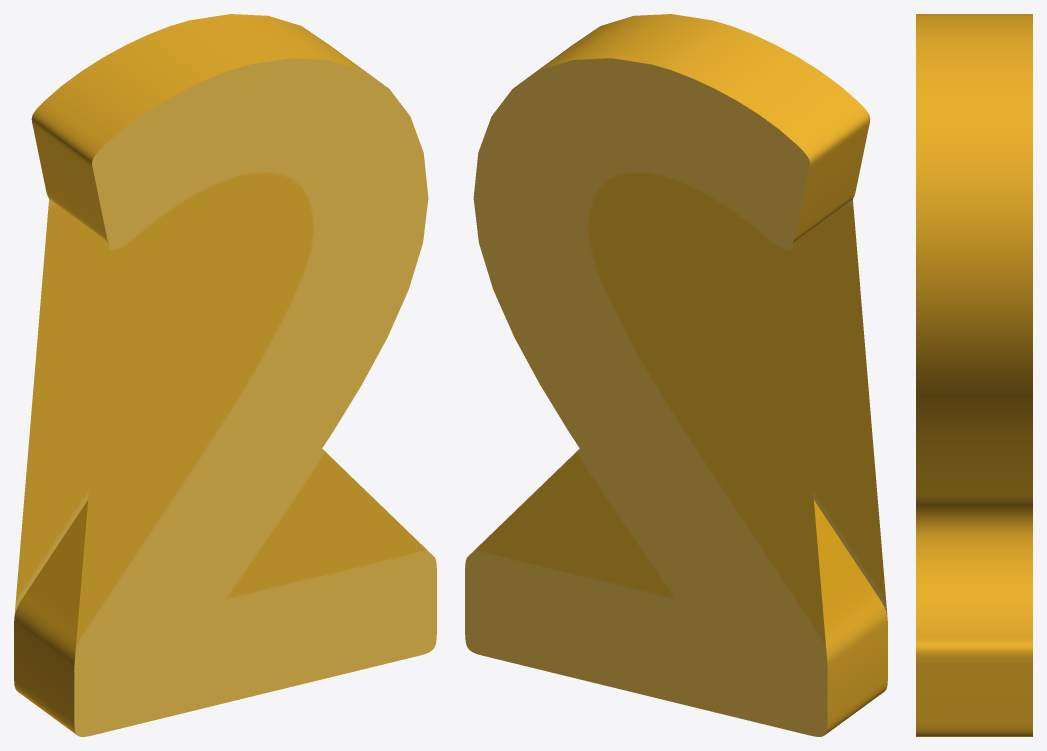
The model's file is number_two.FBX.
3 renders of one model, left to right at view 1: azimuth 30°, elevation 25°; view 2: azimuth 150°, elevation 25°; view 3: azimuth 270°, elevation 25°, orthographic. The views are drawn at different scales.
Parts seen in each view (by area): view 1: number_two; view 2: number_two; view 3: number_two.
Boxes of the visible parts, box(x1,y1,x2,y2) form: number_two: box(14, 14, 436, 736); number_two: box(465, 14, 887, 736); number_two: box(916, 14, 1032, 736).
Bounding box in the file's own units: 23.42 × 39.05 × 6.75.
